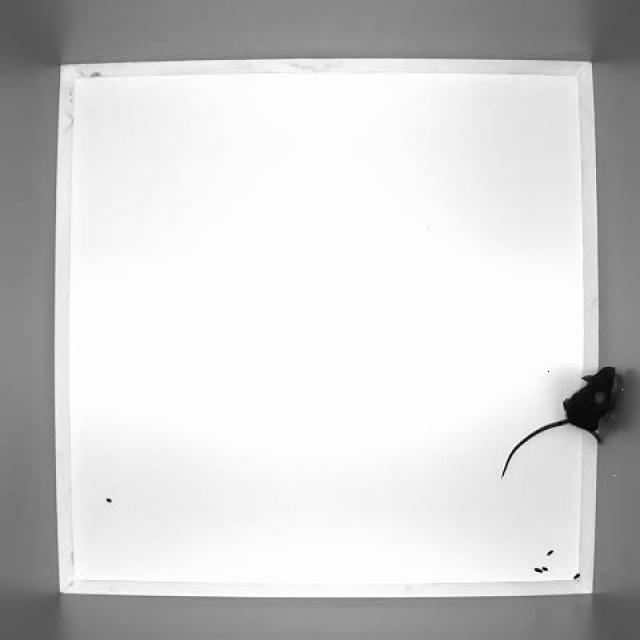rat: (502, 368, 623, 480)
